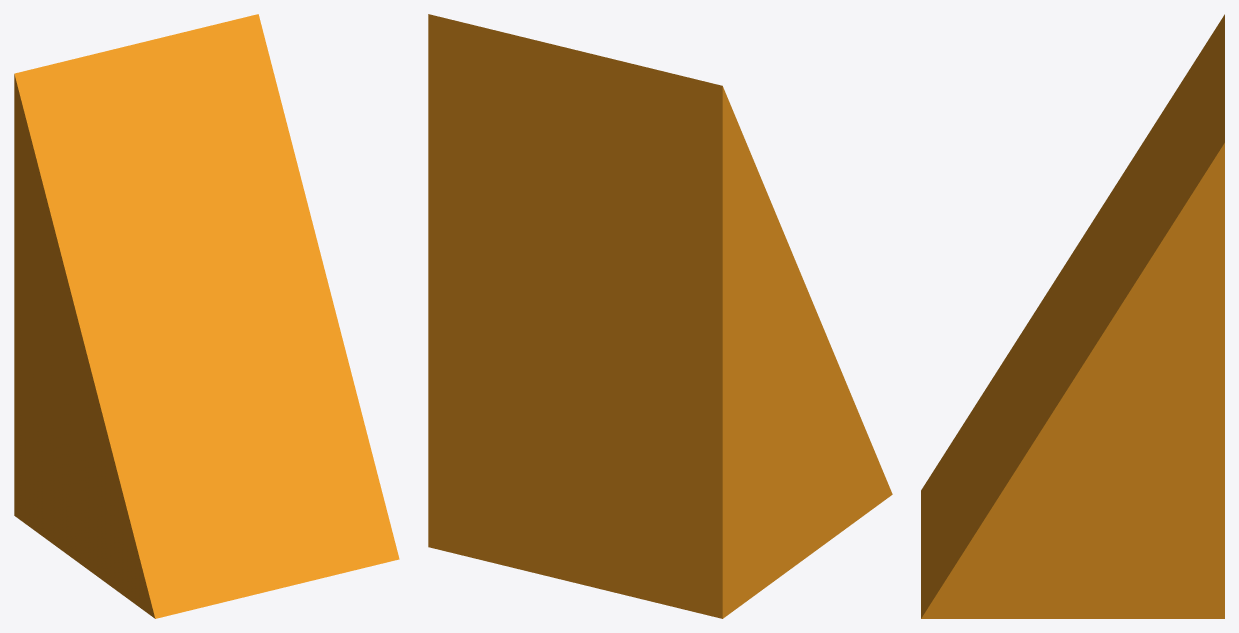
The model's file is SM_Buildings_Ramp_60_1x1_01.fbx.
The picture shows the model from 3 angles, left to right: view 1: azimuth 30°, elevation 25°; view 2: azimuth 150°, elevation 25°; view 3: azimuth 270°, elevation 25°; orthographic projection. The views are drawn at different scales.
Parts seen in each view (by area): view 1: SM_Buildings_Ramp_60_1x1_01; view 2: SM_Buildings_Ramp_60_1x1_01; view 3: SM_Buildings_Ramp_60_1x1_01.
Part boxes in pixels (box(x1,y1,x2,y2)): SM_Buildings_Ramp_60_1x1_01: box(14, 14, 399, 618); SM_Buildings_Ramp_60_1x1_01: box(428, 14, 892, 618); SM_Buildings_Ramp_60_1x1_01: box(921, 14, 1224, 618).
Size of the model in its own units: 100 by 173 by 100.
